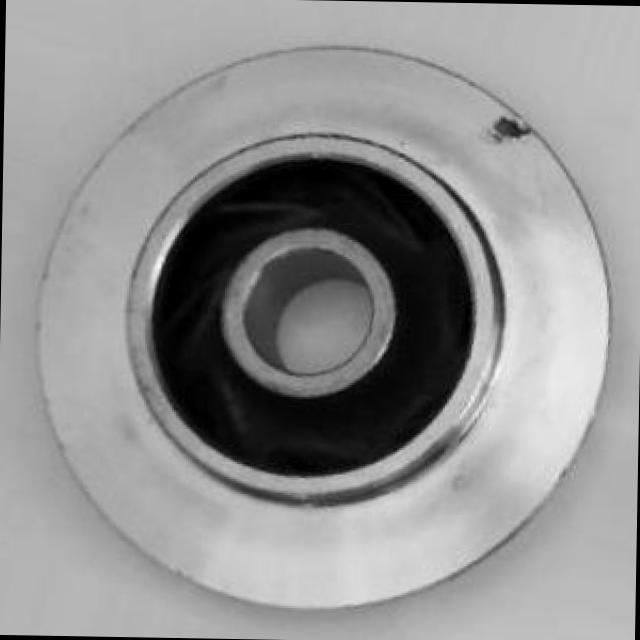Defect: (474, 101, 544, 156)
